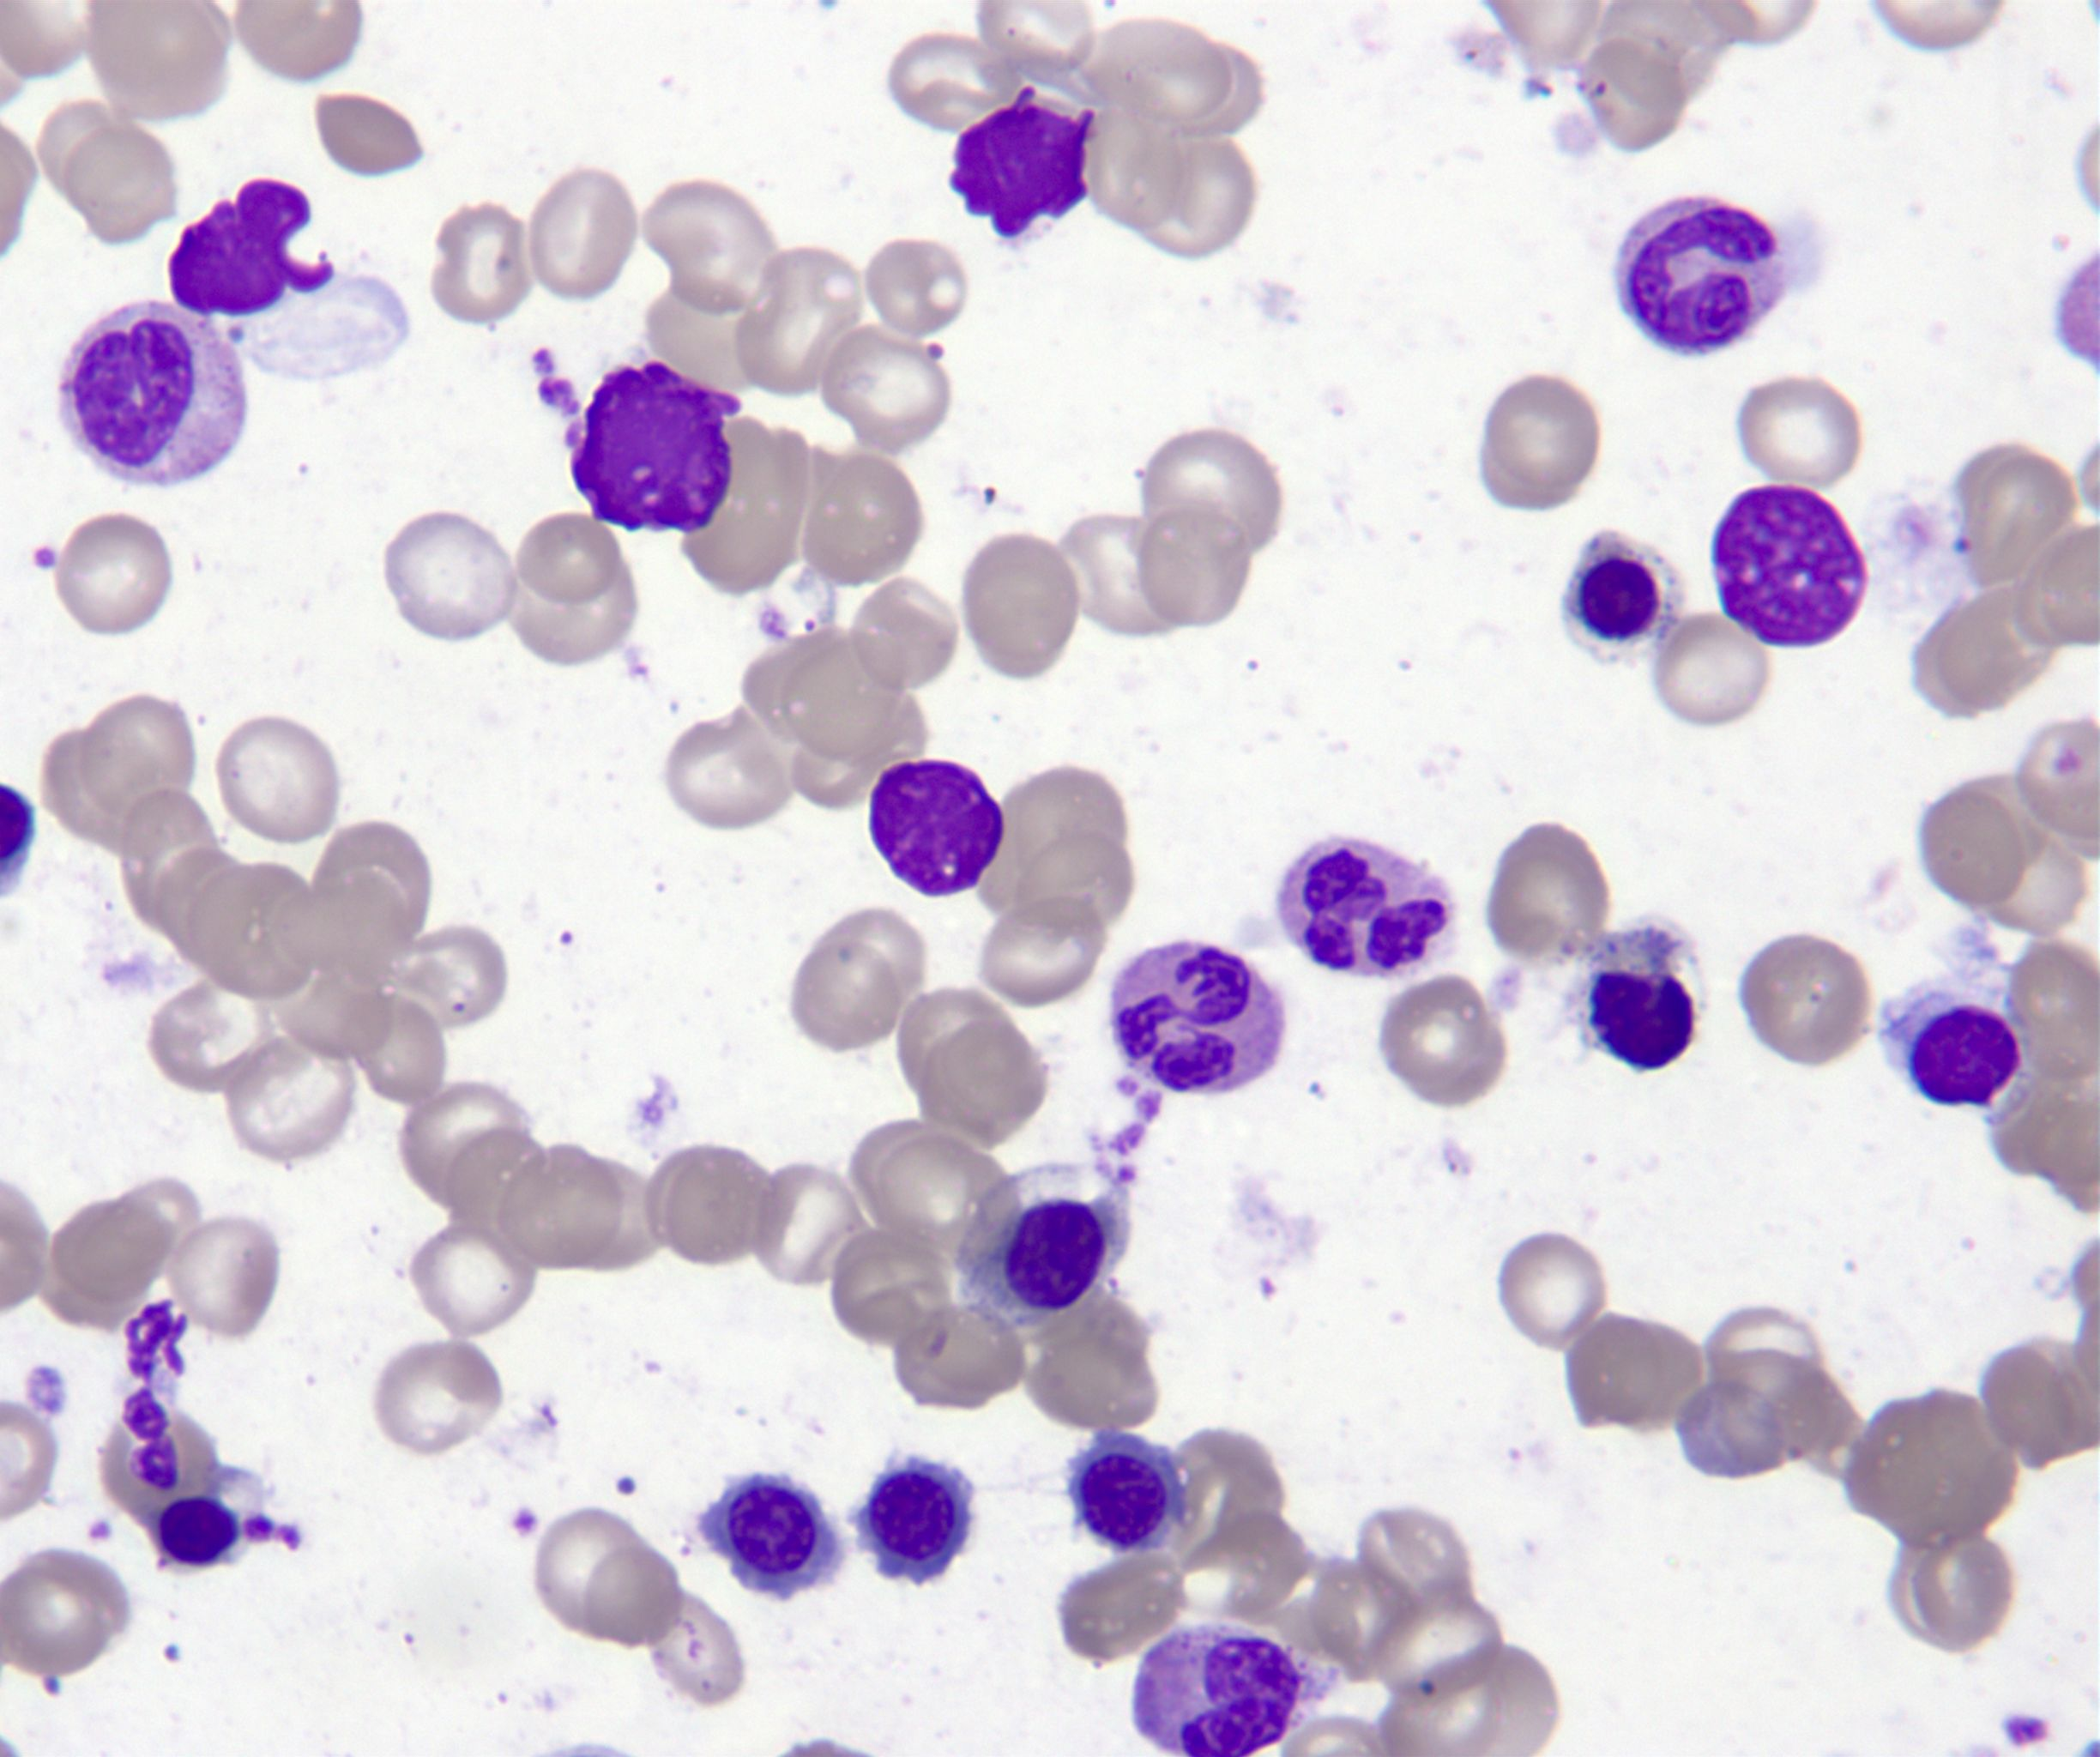24: (956, 1166, 1132, 1337), (1559, 909, 1704, 1075), (1878, 972, 2034, 1125), (696, 1474, 844, 1603), (848, 1452, 973, 1590), (1561, 527, 1683, 665), (1066, 1427, 1188, 1558), (157, 1467, 267, 1569)
5: (58, 302, 244, 483), (1617, 195, 1828, 354)
6: (1134, 1626, 1340, 1757), (1109, 940, 1282, 1096), (1277, 836, 1456, 981)
x: (534, 342, 740, 534), (1715, 483, 1866, 649), (169, 180, 335, 319), (949, 87, 1095, 241), (870, 761, 1005, 899)
